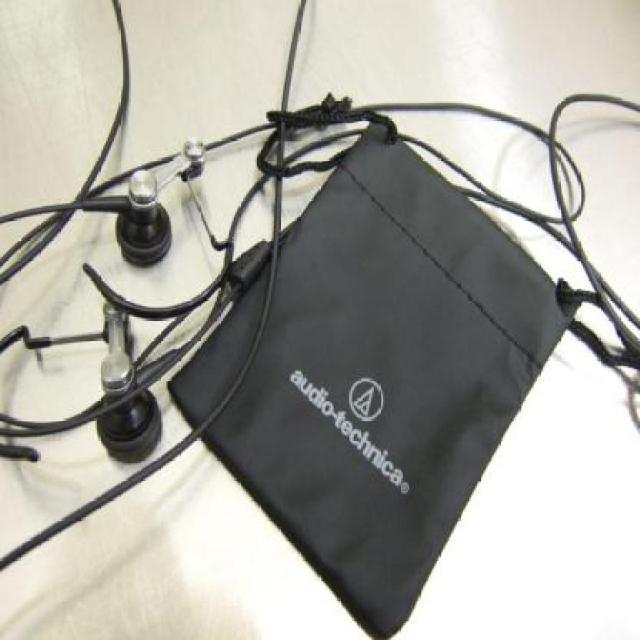earphone: (74, 150, 192, 554)
